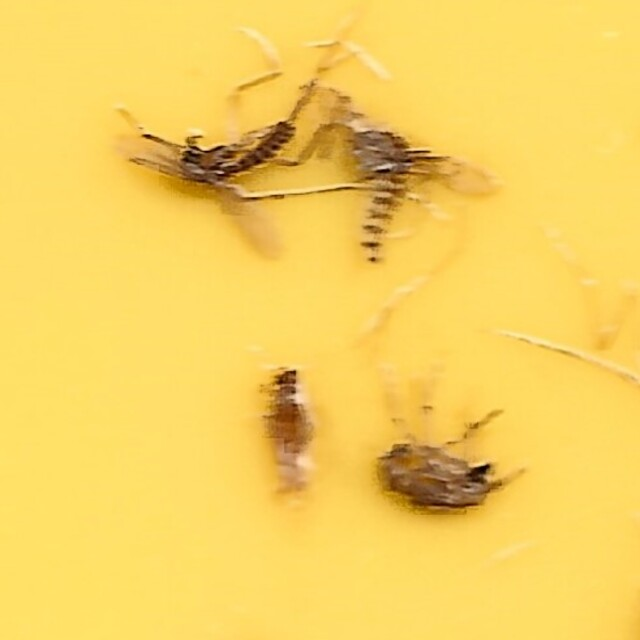Nematocera: (331, 116, 504, 277), (130, 116, 314, 267), (386, 436, 510, 524)
Trichoptera: (261, 358, 326, 496)
